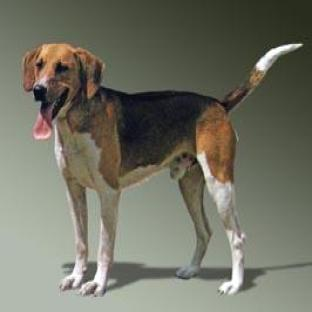Animal: (22, 43, 301, 294)
